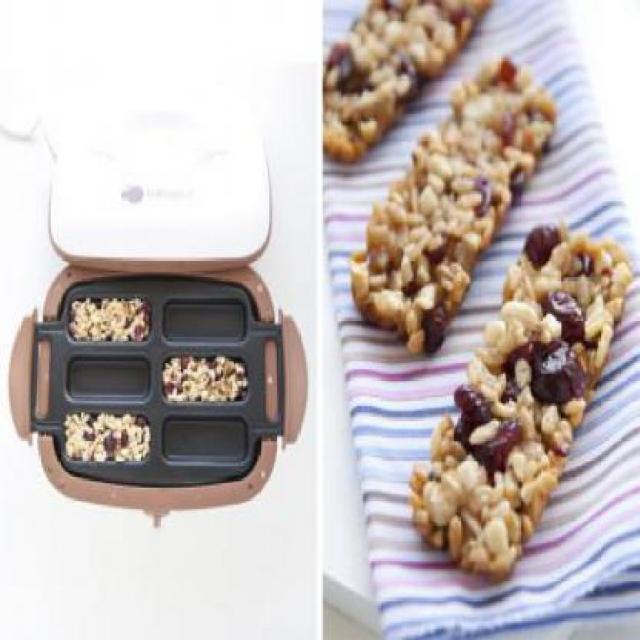Cereal bar packaged: (412, 220, 626, 588), (364, 56, 550, 350)
